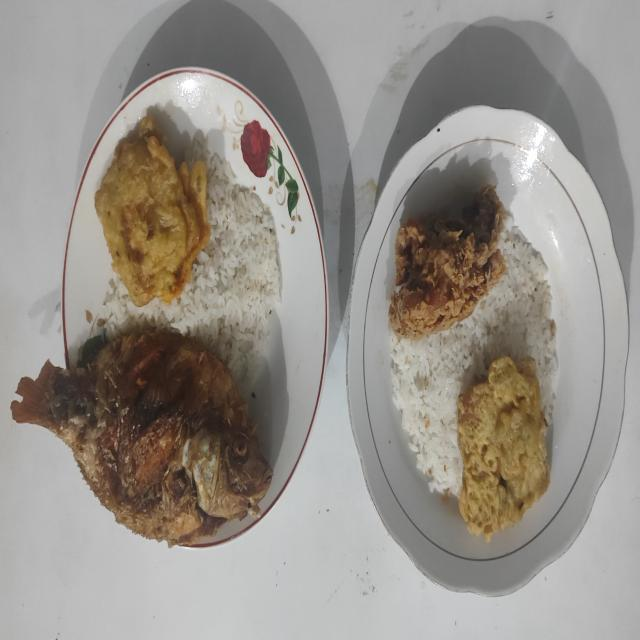ikan_mujair: (11, 327, 272, 545)
nasi_putih: (388, 218, 558, 497), (100, 140, 282, 389)
